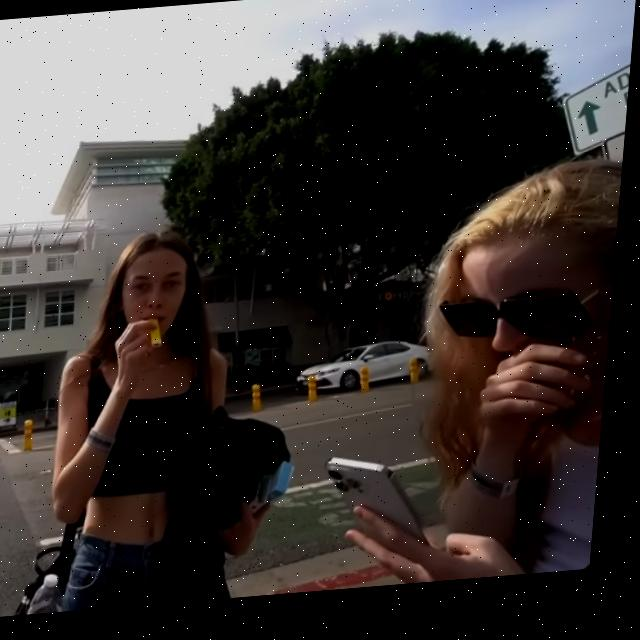vape: (151, 320, 170, 352)
